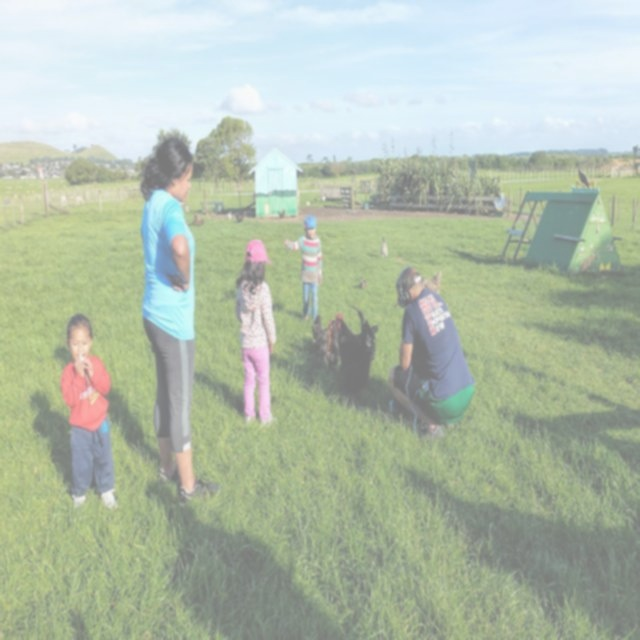pessoa: (140, 136, 220, 507), (388, 264, 477, 440), (53, 309, 122, 513), (231, 236, 280, 430), (388, 266, 449, 412), (282, 214, 324, 326)
